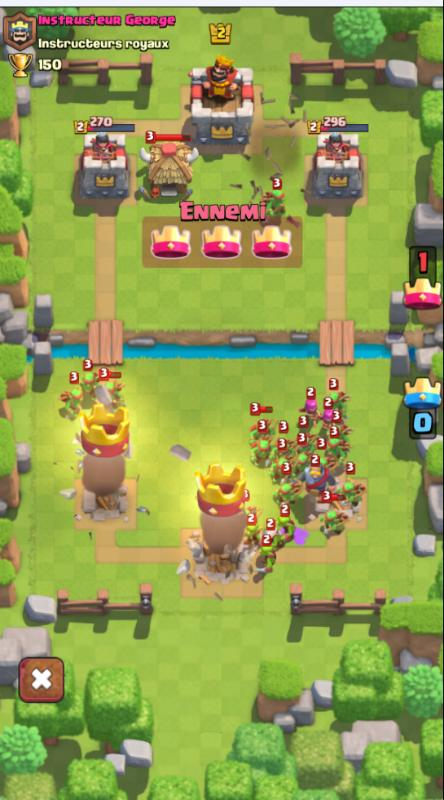archere: (300, 386, 320, 428)
chevalier: (296, 457, 337, 500)
gobelin: (254, 538, 275, 583), (277, 509, 298, 547), (322, 402, 340, 437), (265, 527, 284, 551), (243, 522, 260, 548)
gobelin_lances: (259, 185, 290, 227), (318, 506, 349, 544), (271, 479, 303, 509), (101, 380, 129, 412), (339, 475, 362, 511), (248, 415, 275, 445), (77, 366, 100, 401), (248, 439, 274, 467), (328, 390, 352, 420), (62, 388, 83, 422), (327, 426, 354, 450), (272, 457, 294, 486), (327, 438, 347, 469), (274, 437, 296, 465), (298, 433, 321, 458), (295, 452, 311, 477)
